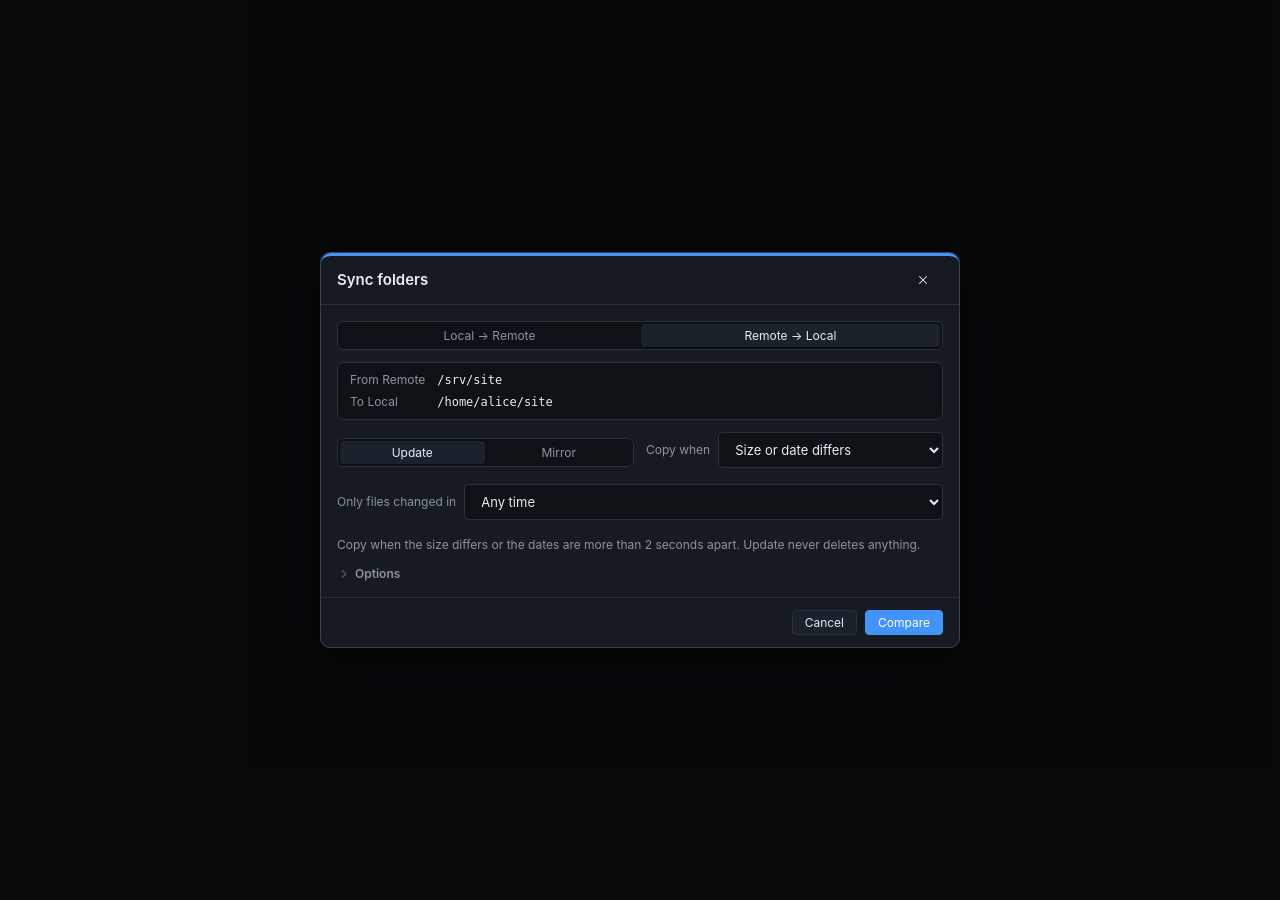
Scenario: SyncDialog › names the Trash for a local Mirror
Click the radio button labelled "Mirror": (559, 452) [486,440,631,464]
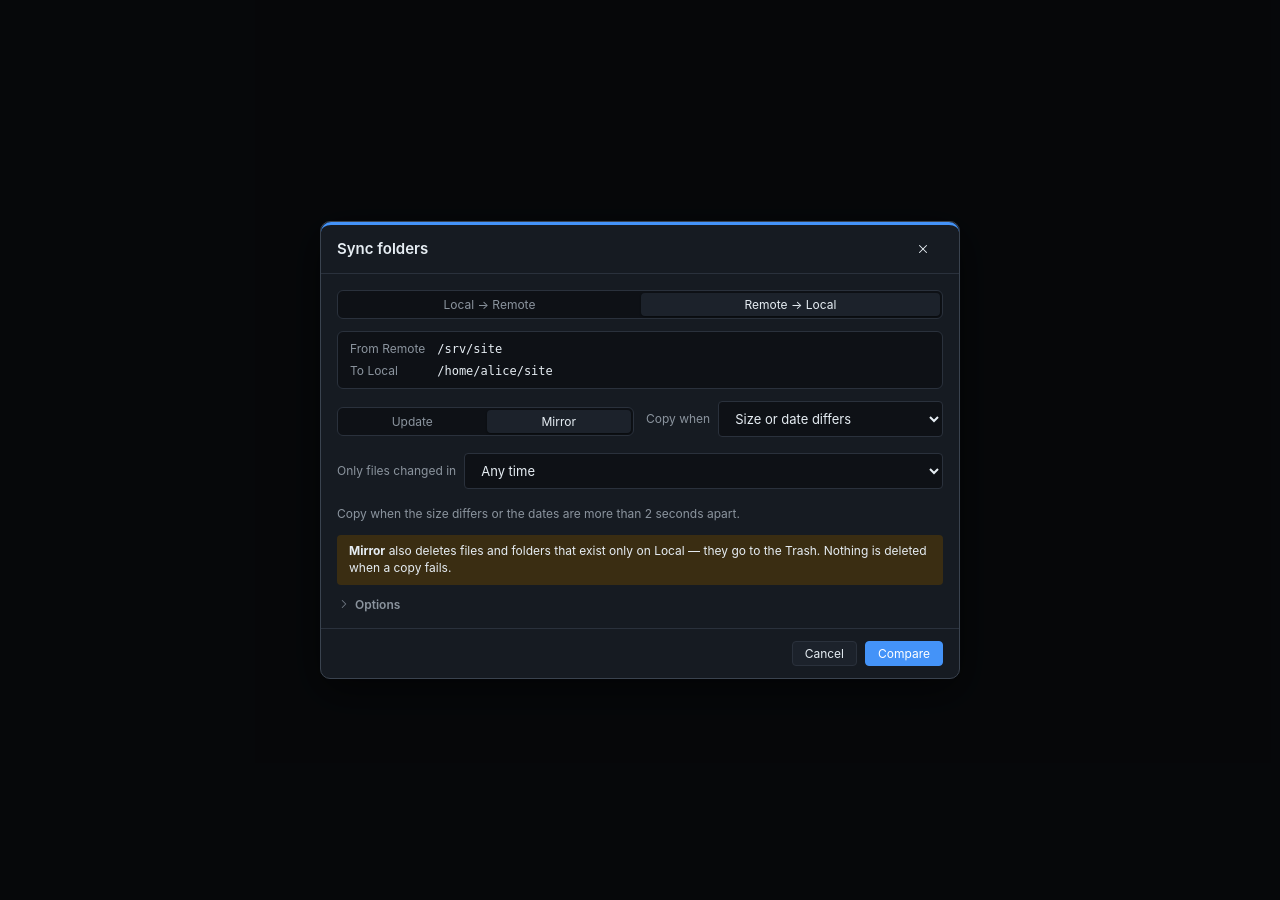
Result: the element that starts with "Mirror" shows "they go to the" at [685,543,820,558]
Click the button "Compare": (904, 653) [865,641,943,666]
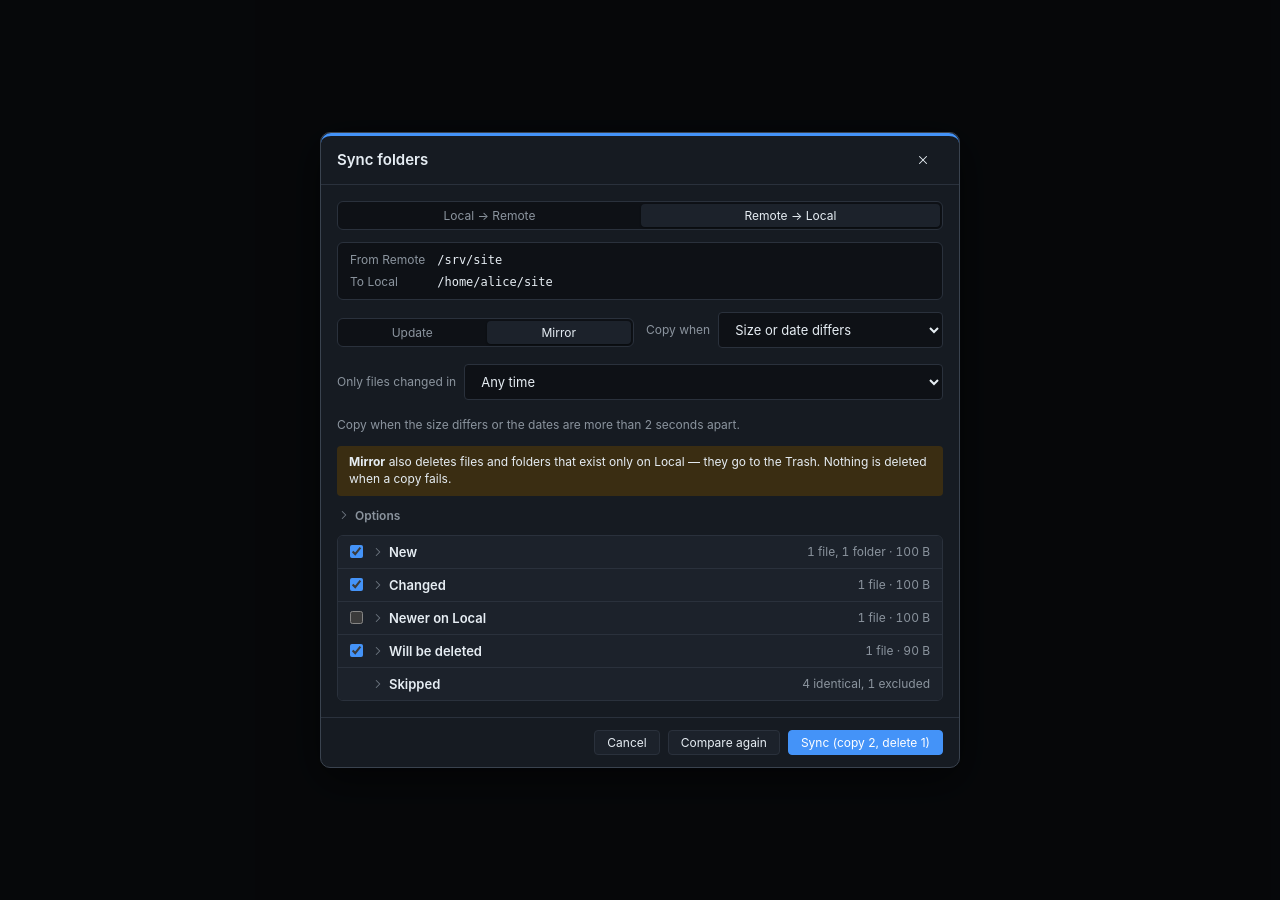
Click the button "Sync (copy 2, delete 1)": (865, 742) [788,730,943,755]
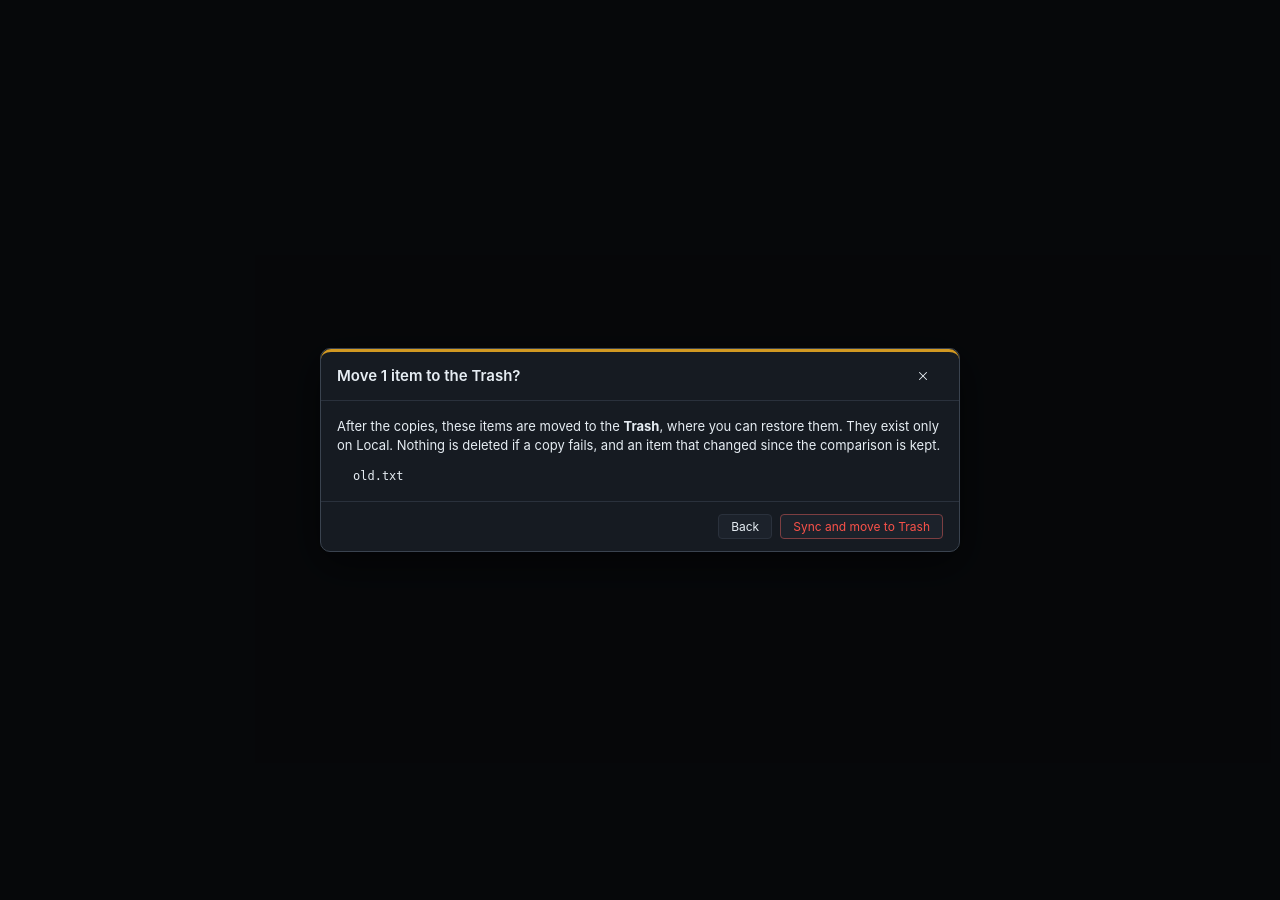
Result: the button "Sync and move to Trash" is shown at [780,514,943,539]
